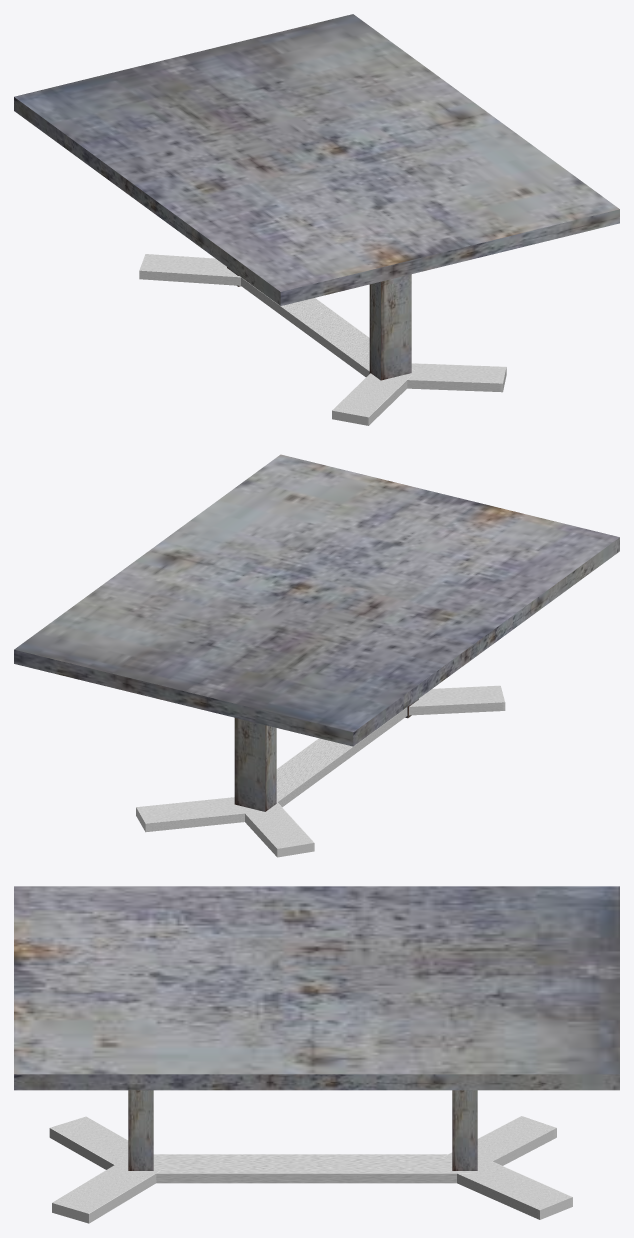
Rendered from stolik3szary.glb.
3 renders of one model, top to bottom at view 1: azimuth 30°, elevation 25°; view 2: azimuth 150°, elevation 25°; view 3: azimuth 270°, elevation 25°, orthographic. The views are drawn at different scales.
Parts seen in each view (by area): view 1: Box001, Box004, Box002, Box008, Box006, Box005; view 2: Box001, Box003, Box002, Box007, Box005, Box006; view 3: Box001, Box002, Box007, Box008, Box006, Box005, Box003, Box004.
Boxes of the visible parts, x1=… form: Box001: x1=14, y1=14, x2=619, y2=305; Box004: x1=369, y1=274, x2=411, y2=380; Box002: x1=241, y1=277, x2=414, y2=376; Box008: x1=406, y1=363, x2=506, y2=392; Box006: x1=139, y1=254, x2=240, y2=285; Box005: x1=332, y1=373, x2=411, y2=425; Box001: x1=14, y1=454, x2=619, y2=746; Box003: x1=234, y1=718, x2=276, y2=811; Box002: x1=276, y1=707, x2=407, y2=807; Box007: x1=136, y1=797, x2=244, y2=832; Box005: x1=409, y1=685, x2=505, y2=715; Box006: x1=238, y1=801, x2=314, y2=857; Box001: x1=14, y1=886, x2=619, y2=1090; Box002: x1=153, y1=1154, x2=471, y2=1183; Box007: x1=457, y1=1161, x2=572, y2=1219; Box008: x1=52, y1=1159, x2=160, y2=1223; Box006: x1=443, y1=1116, x2=556, y2=1168; Box005: x1=49, y1=1116, x2=159, y2=1169; Box003: x1=452, y1=1090, x2=477, y2=1170; Box004: x1=128, y1=1090, x2=153, y2=1170.
Size of the model in its own units: 0.7261 by 0.3535 by 0.9888.
2 materials, 2 textured.
